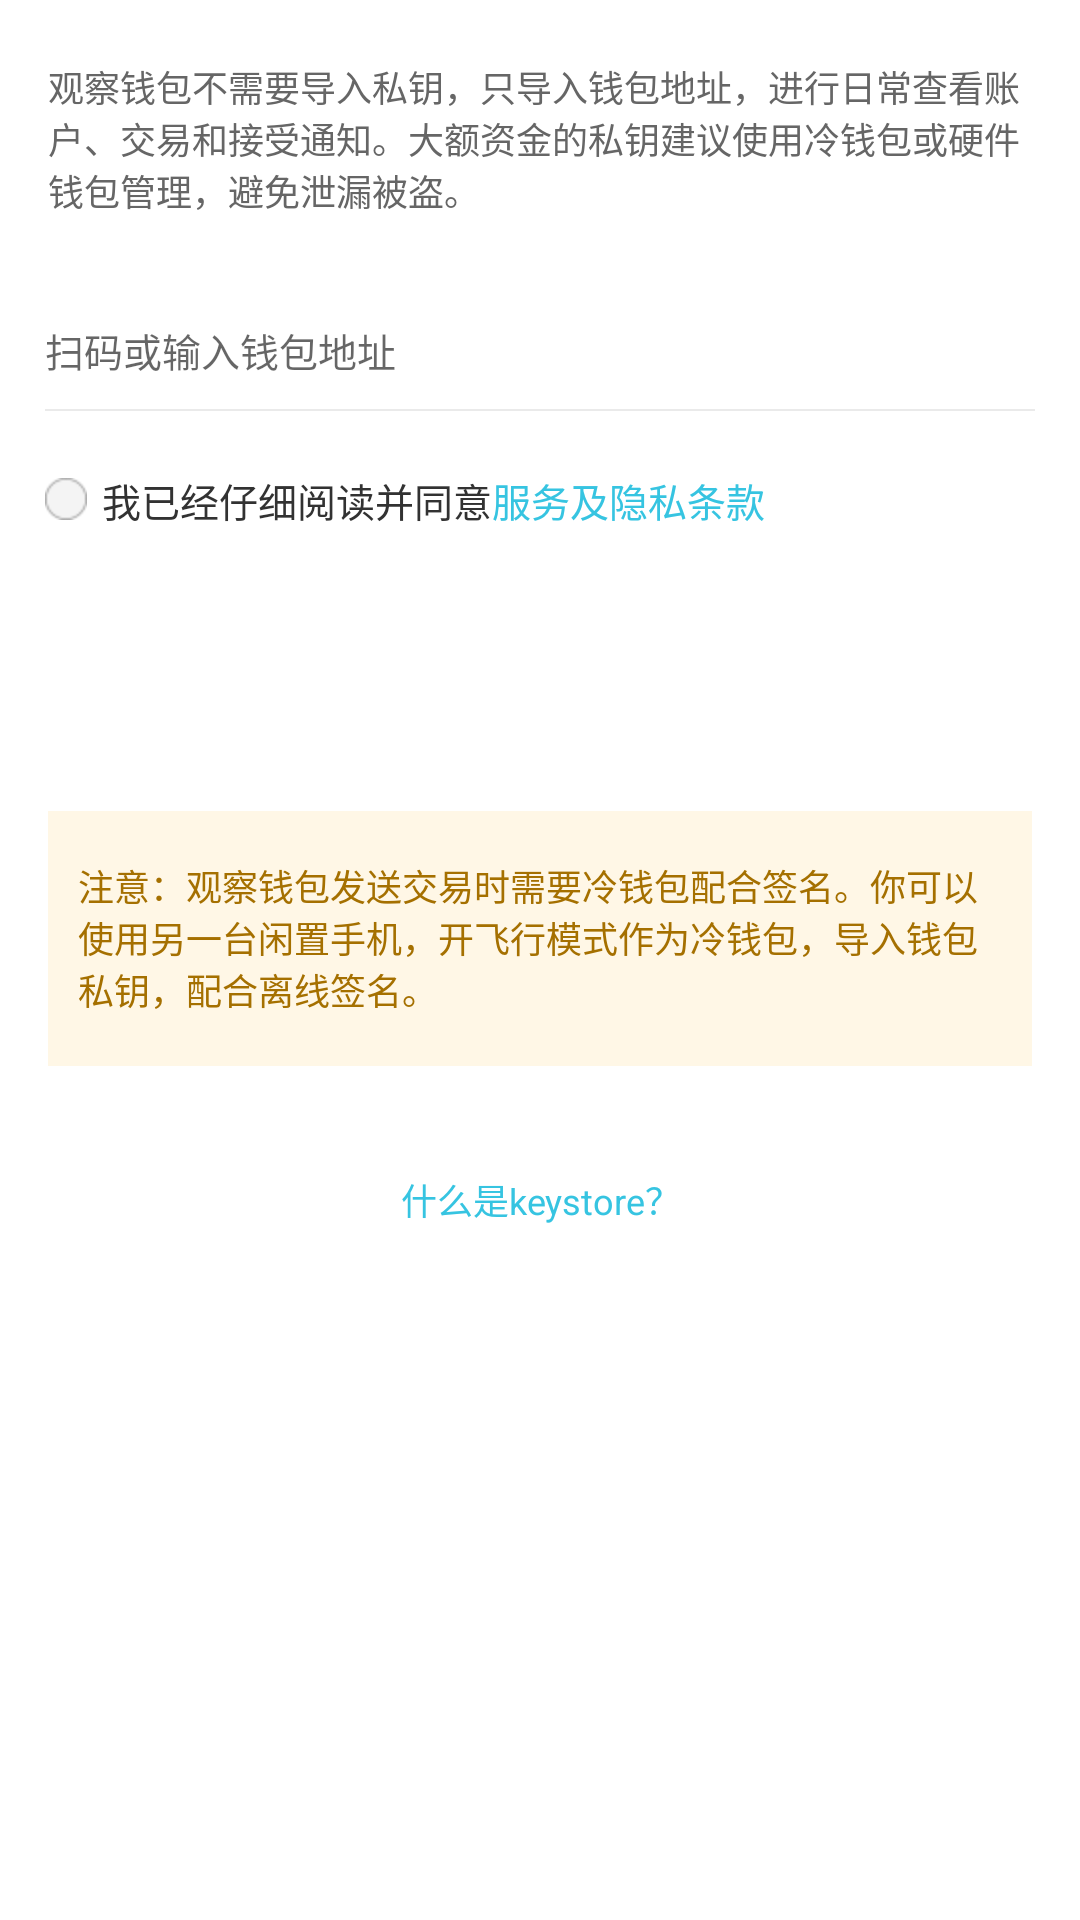

Icon click points for this 1080×1920 phone screenshot, format point (x, y):
agreement circle cb: point (66, 499)
